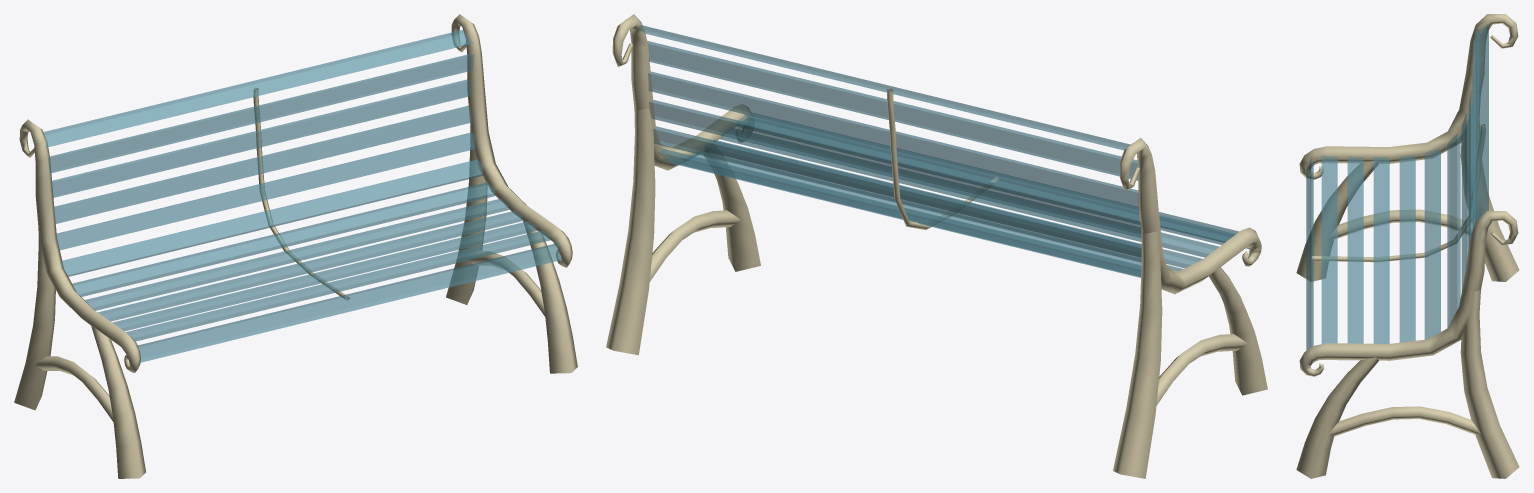
File: ParkBench_NOUV.fbx
3 views of the same model, side by side, from view 1: azimuth 30°, elevation 25°; view 2: azimuth 150°, elevation 25°; view 3: azimuth 270°, elevation 25° (orthographic). The views are drawn at different scales.
Visible parts, largest first — view 1: Bench; view 2: Bench; view 3: Bench.
Boxes of the visible parts, x1=… form: Bench: x1=14, y1=14, x2=577, y2=478; Bench: x1=606, y1=14, x2=1267, y2=478; Bench: x1=1296, y1=14, x2=1519, y2=478.
Size of the model in its own units: 298 by 177 by 134.
